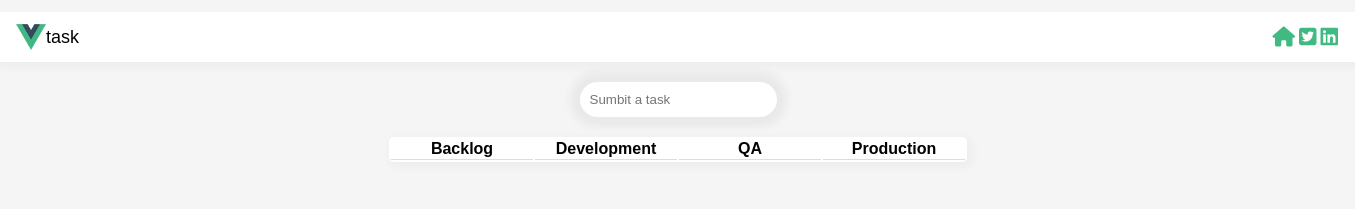
Test: Login › Actions › Input should add a task in the table
In the field with placeholder "Sumbit a task": (679, 100) [580, 82, 777, 117], type "Clash"
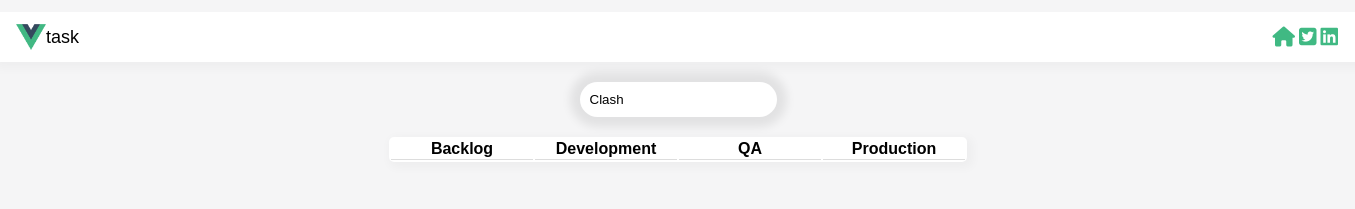
Submit the form, box [580, 82, 777, 117]
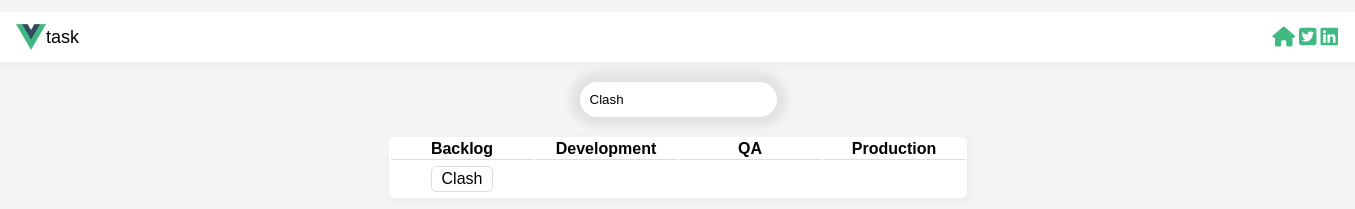
Expected: the text "Clash" is shown, [430, 166, 493, 192]
